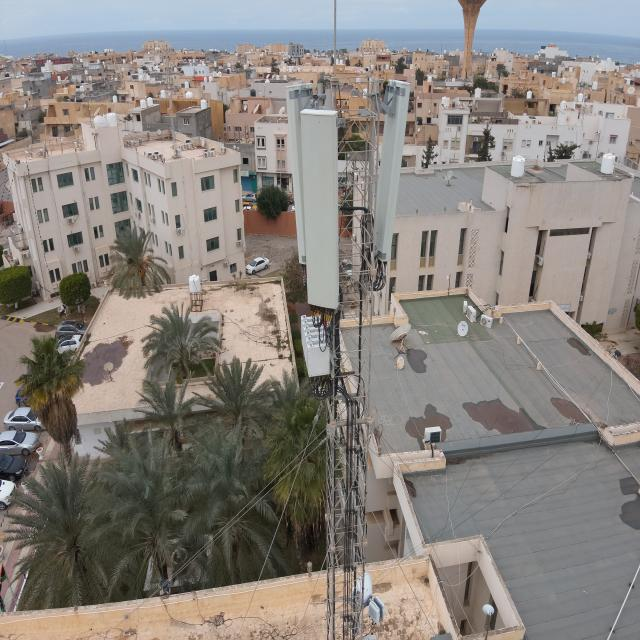antenna: (300, 105, 348, 323), (284, 80, 330, 264), (371, 75, 414, 264)
lighnig-rad: (328, 0, 342, 81)
microware-dish: (349, 569, 388, 626)
radio-unit: (295, 314, 334, 381)
